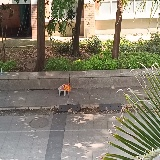fire: (60, 83, 71, 92)
